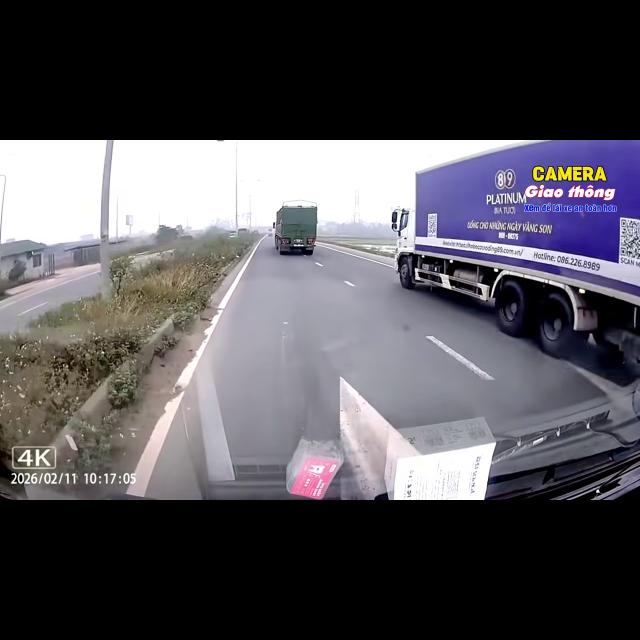truck: (392, 140, 639, 373), (273, 201, 317, 254)
